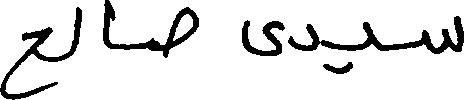X: (0, 22, 52, 99), (166, 2, 197, 62), (426, 11, 463, 58), (243, 15, 281, 60), (290, 19, 317, 55), (69, 2, 81, 61), (364, 17, 374, 53), (103, 0, 109, 52)
